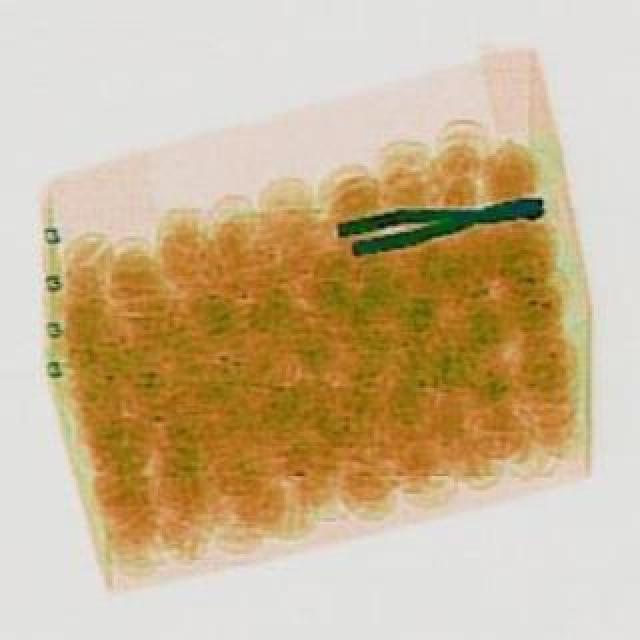wrench: (330, 180, 548, 254)
